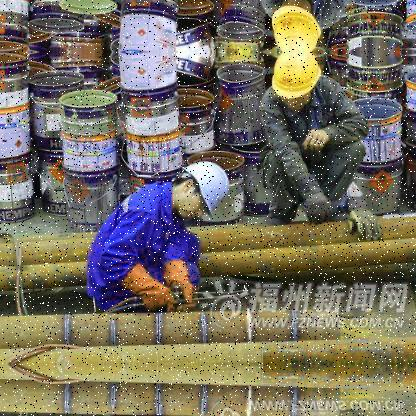Helmet: (174, 160, 230, 221), (278, 52, 328, 115), (276, 0, 322, 53)
